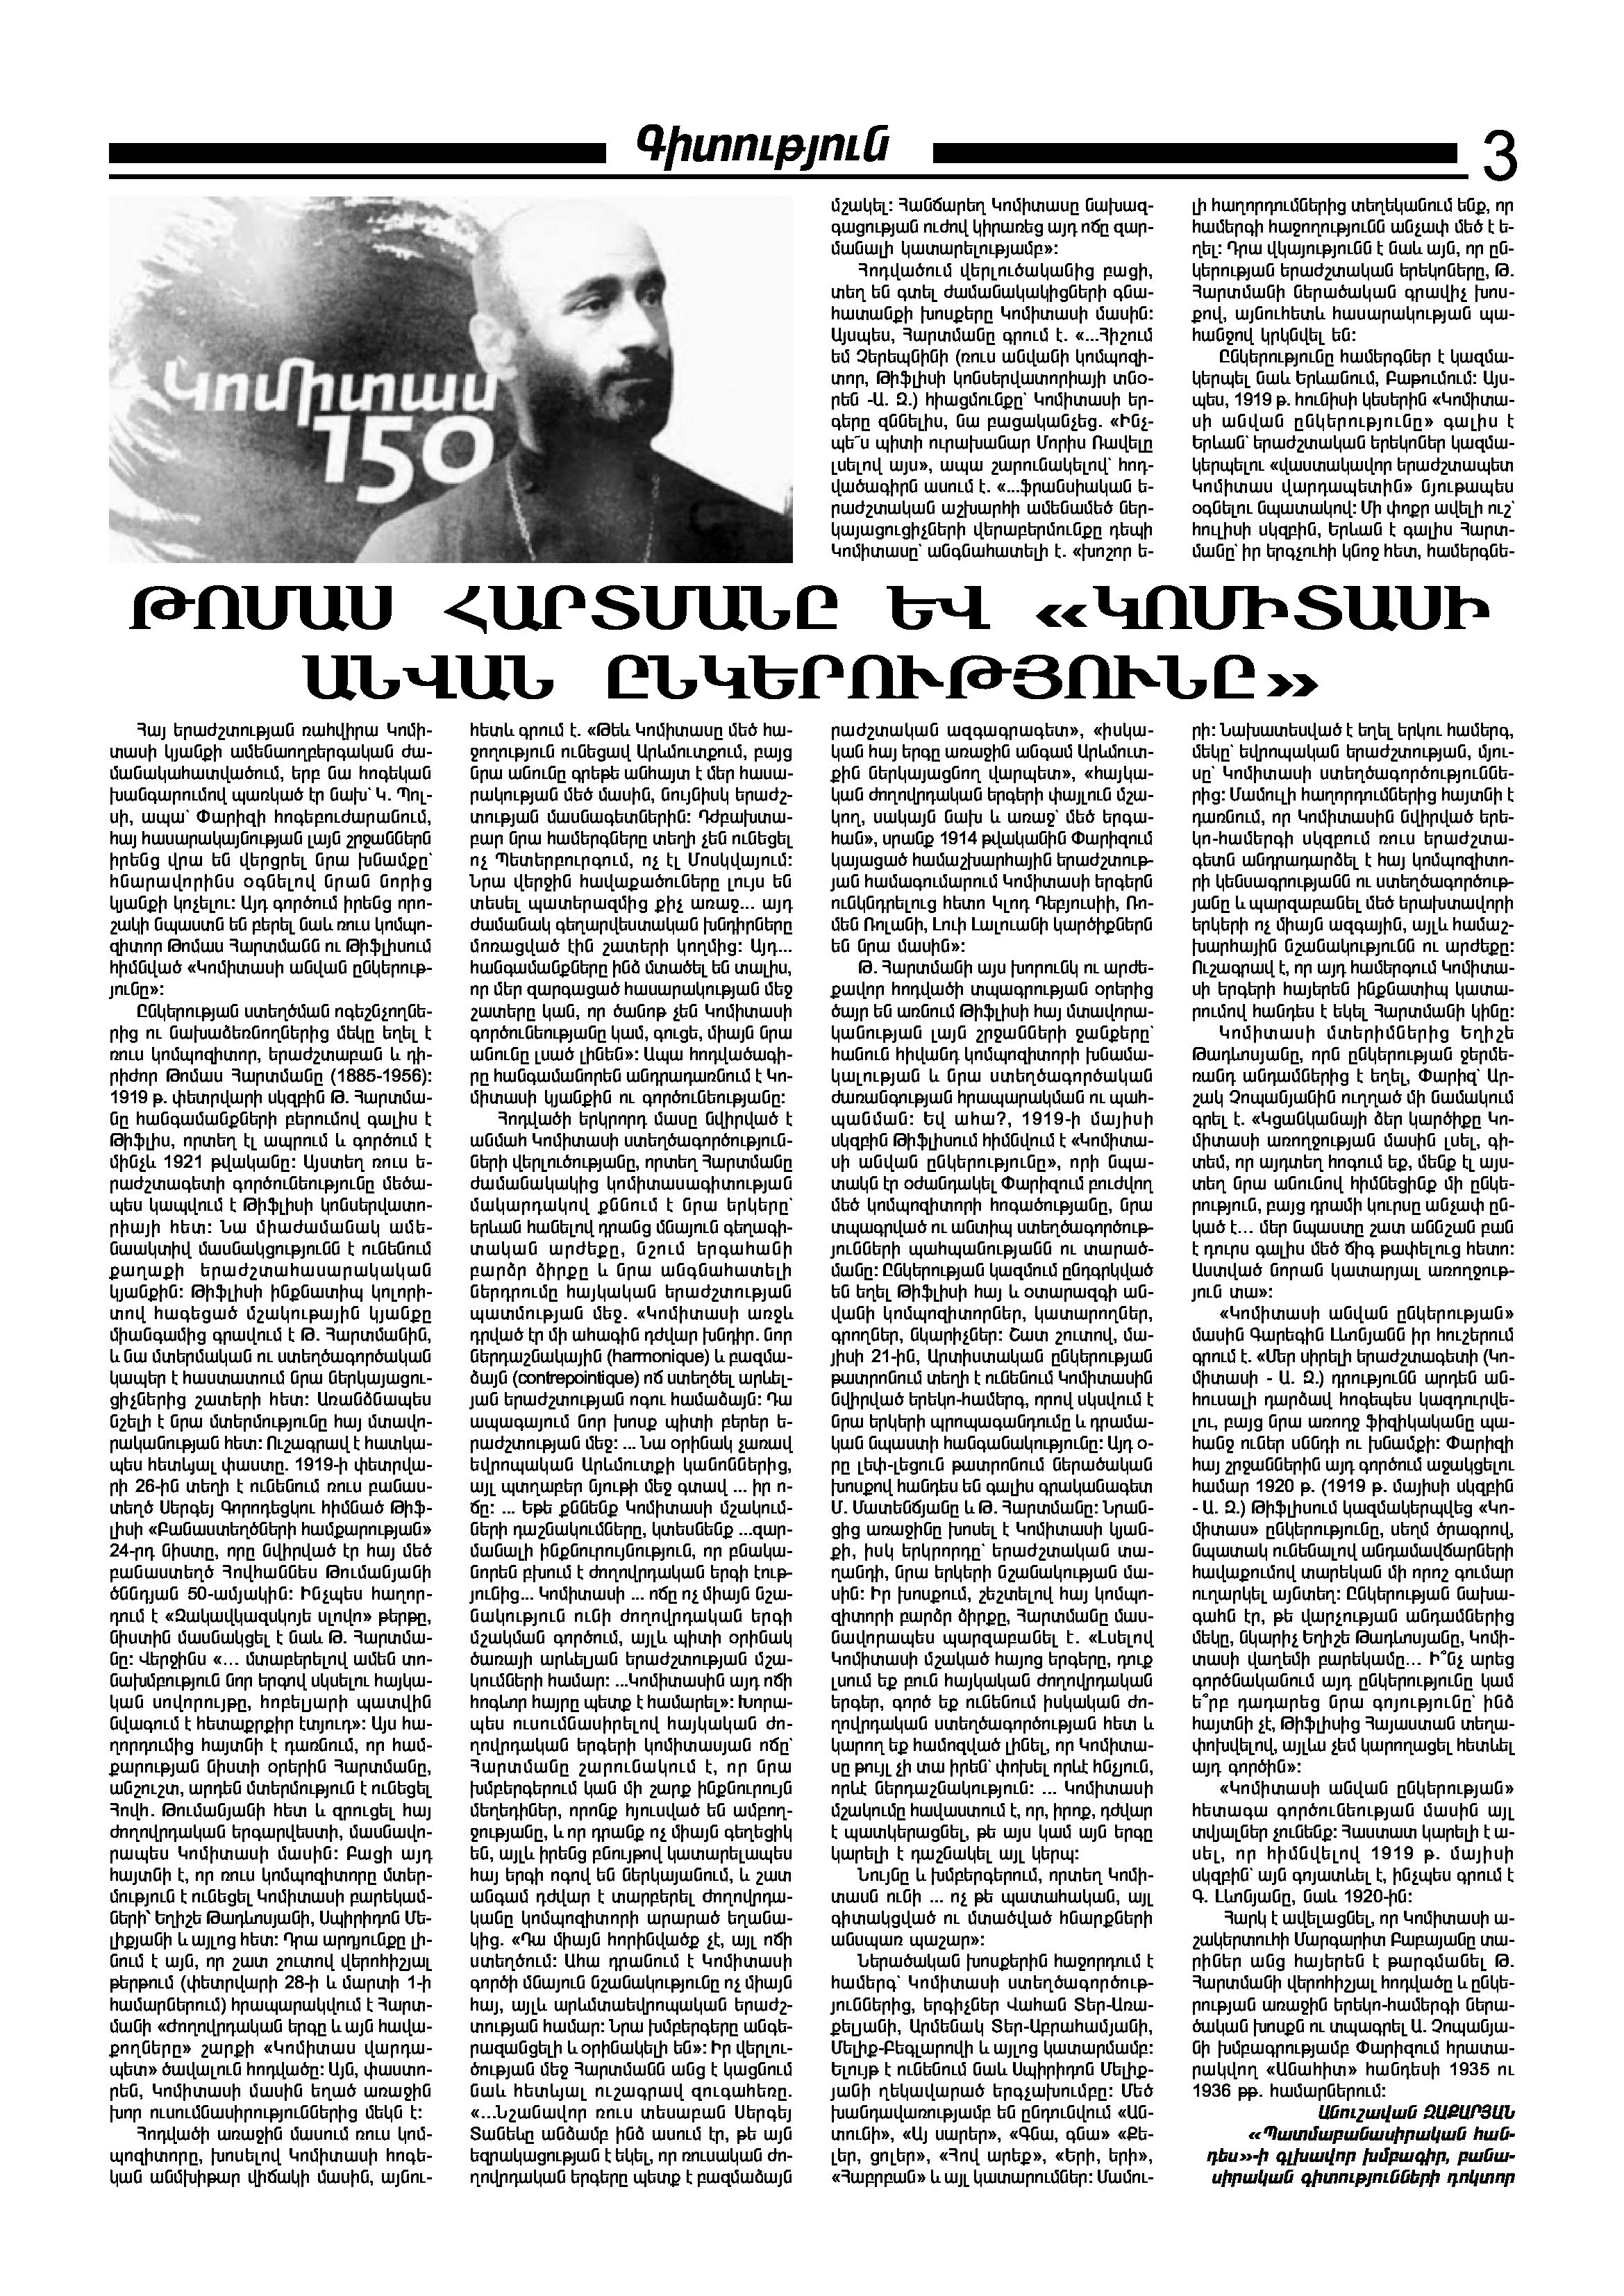person: (105, 180, 805, 578)
